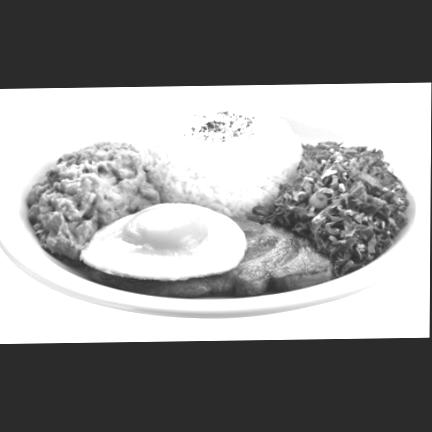chicken: (26, 141, 158, 261)
egg: (80, 204, 246, 281)
green_vegetables: (251, 142, 408, 276)
meat: (86, 218, 332, 297)
rice: (143, 104, 301, 217)
